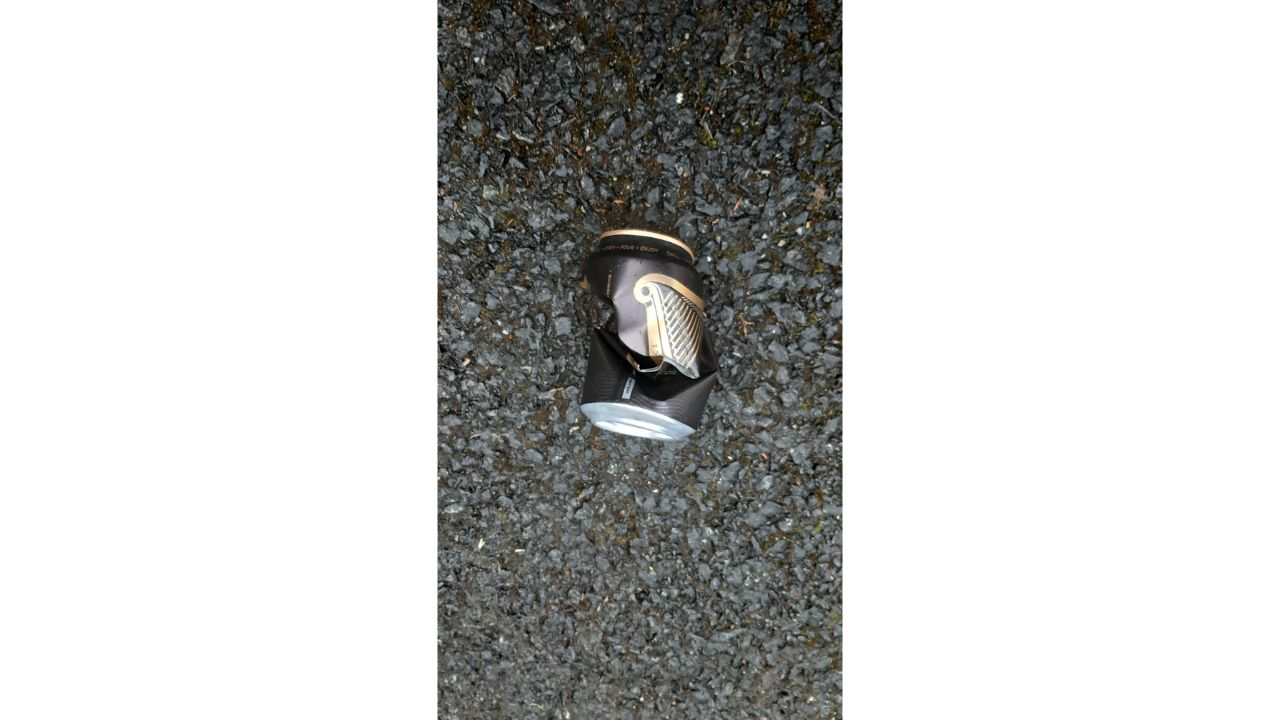Can: (580, 228, 719, 443)
